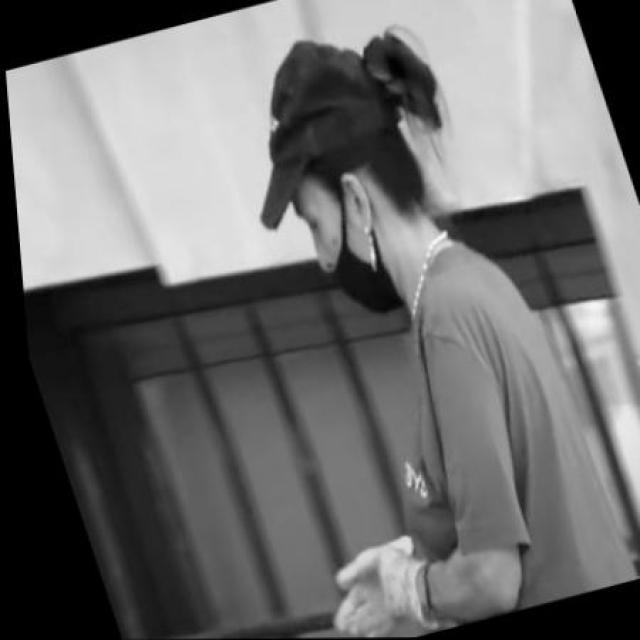hairnet: (294, 184, 399, 324)
